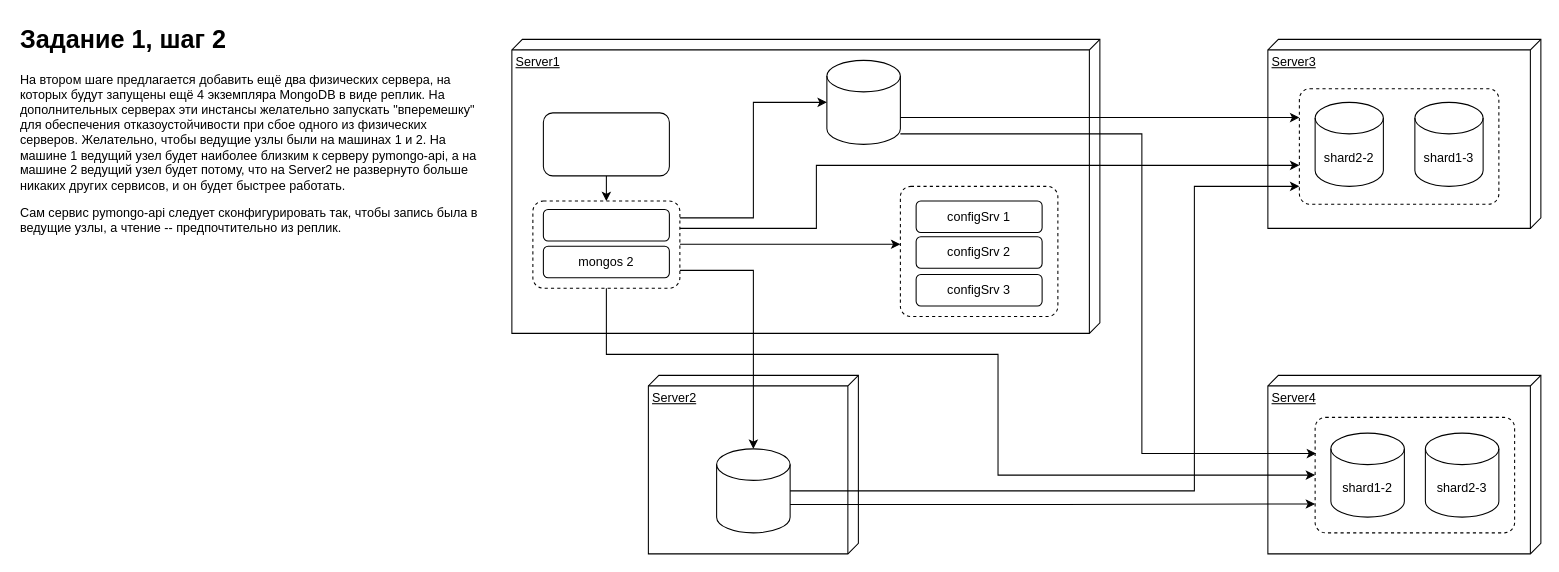
The diagram is 1559 pixels wide and 572 high, and some of its shapes have lost their labels. Each missing label, with the centre of its shape:
mongos 1: pixel 605 224
pymongo-api: pixel 605 144
shard1-1: pixel 863 101
shard2-1: pixel 753 490
